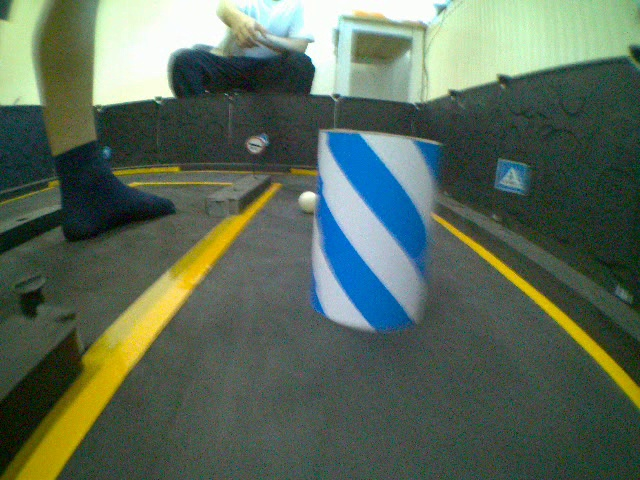bucket: (314, 124, 444, 336)
